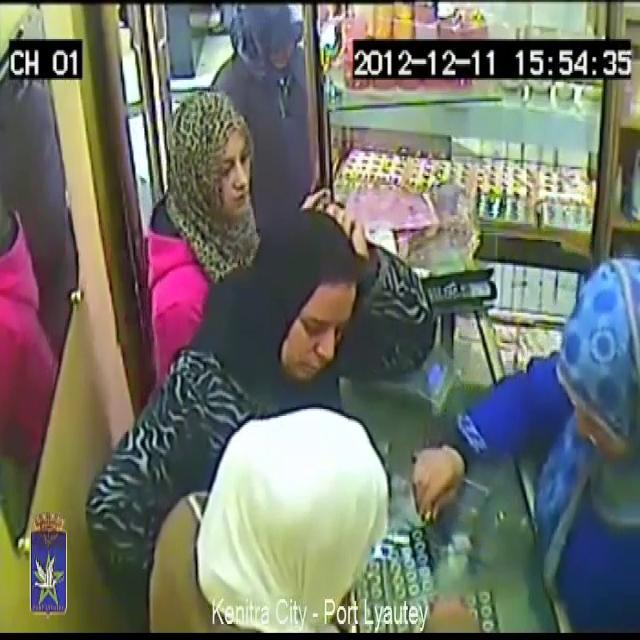Product: (418, 484, 440, 527)
normal: (121, 372, 401, 640), (138, 68, 270, 337), (246, 195, 378, 412), (223, 0, 323, 188)
shoplifting: (417, 163, 640, 640)
